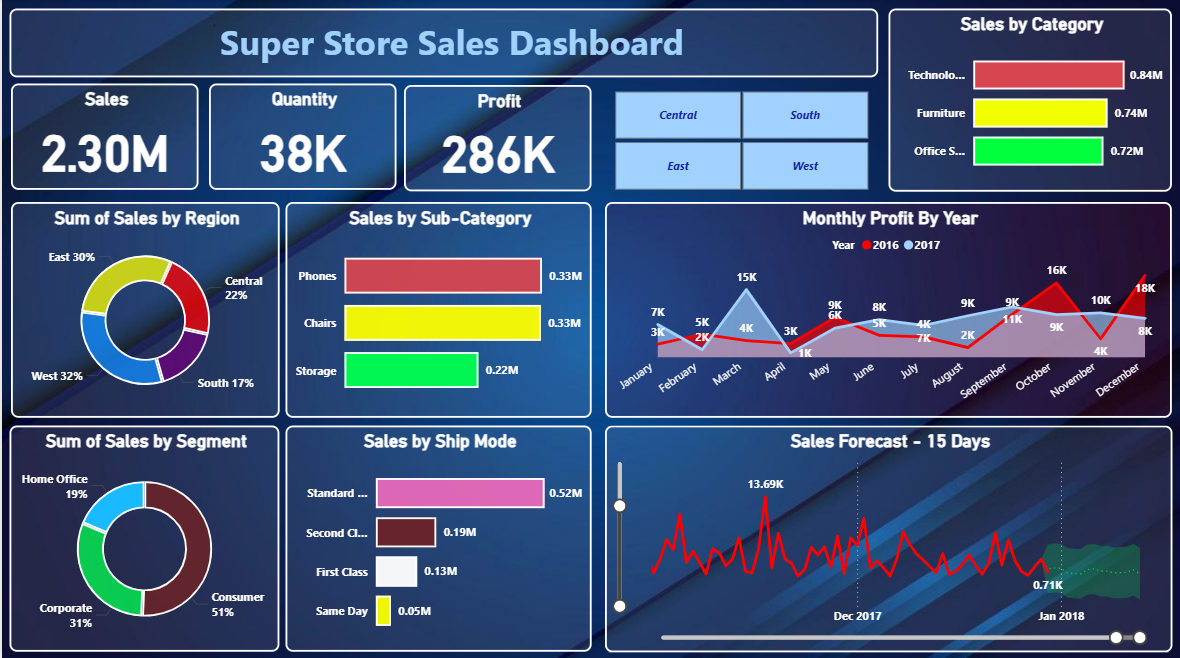

The dashboard page shown, as its layout file describes it:
{"tool":"powerbi","page":{"name":"Page 1","canvas":[1280,720],"ordinal":0},"visuals":[{"type":"clusteredBarChart","title":"Sales by Category","fields":{"Category":["Sample - Superstore.Category"],"Y":["Sum(Sample - Superstore.Sales)"]},"box":[0,494.5,307.4,226.1],"z":0},{"type":"clusteredBarChart","title":"Sales by Sub-Category","fields":{"Y":["Sum(Sample - Superstore.Sales)"],"Category":["Sample - Superstore.Sub-Category"]},"box":[330.2,494.5,309,226.1],"z":1000},{"type":"clusteredBarChart","title":"Sales by Ship Mode","fields":{"Y":["Sum(Sample - Superstore.Sales)"],"Category":["Sample - Superstore.Ship Mode"]},"box":[665.3,494.5,291.2,226.1],"z":2000},{"type":"areaChart","title":"Monthly Sales By Year","fields":{"Y":["Sum(Sample - Superstore.Sales)"],"Series":["Sample - Superstore.Order Date.Variation.Date Hierarchy.Year"],"Category":["Sample - Superstore.Order Date.Variation.Date Hierarchy.Month"]},"box":[0,0,551.7,318.3],"z":3000},{"type":"areaChart","title":"Monthly Profit By Year","fields":{"Series":["Sample - Superstore.Order Date.Variation.Date Hierarchy.Year"],"Category":["Sample - Superstore.Order Date.Variation.Date Hierarchy.Month"],"Y":["Sum(Sample - Superstore.Profit)"]},"box":[0,238.3,551.7,320],"z":4000},{"type":"donutChart","fields":{"Category":["Sample - Superstore.Segment"],"Y":["Sum(Sample - Superstore.Sales)"]},"box":[968.3,501.7,291.7,213.3],"z":5000},{"type":"donutChart","fields":{"Y":["Sum(Sample - Superstore.Sales)"],"Category":["Sample - Superstore.Region"]},"box":[665,238.3,291.7,196.7],"z":6000}]}

Visuals, with their boxes in screenshot pixels (x1, y1, x2, y2), scaled from the page's 1280x720 canvas onto the 1180x658 screenshot:
"Sales by Category" clusteredBarChart: (left=0, top=452, right=283, bottom=657)
"Sales by Sub-Category" clusteredBarChart: (left=304, top=452, right=589, bottom=657)
"Sales by Ship Mode" clusteredBarChart: (left=613, top=452, right=882, bottom=657)
"Monthly Sales By Year" areaChart: (left=0, top=0, right=509, bottom=291)
"Monthly Profit By Year" areaChart: (left=0, top=218, right=509, bottom=510)
donutChart - Sample - Superstore.Segment x Sum(Sample - Superstore.Sales): (left=893, top=458, right=1162, bottom=653)
donutChart - Sum(Sample - Superstore.Sales) x Sample - Superstore.Region: (left=613, top=218, right=882, bottom=398)
